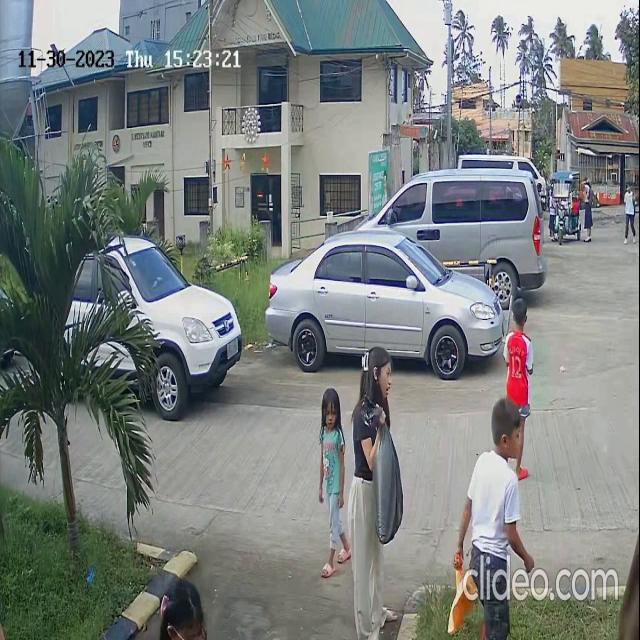person: (479, 396, 528, 516), (314, 387, 351, 491), (349, 349, 395, 427), (503, 297, 532, 398)
